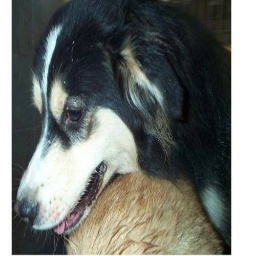dog: (15, 0, 228, 256)
